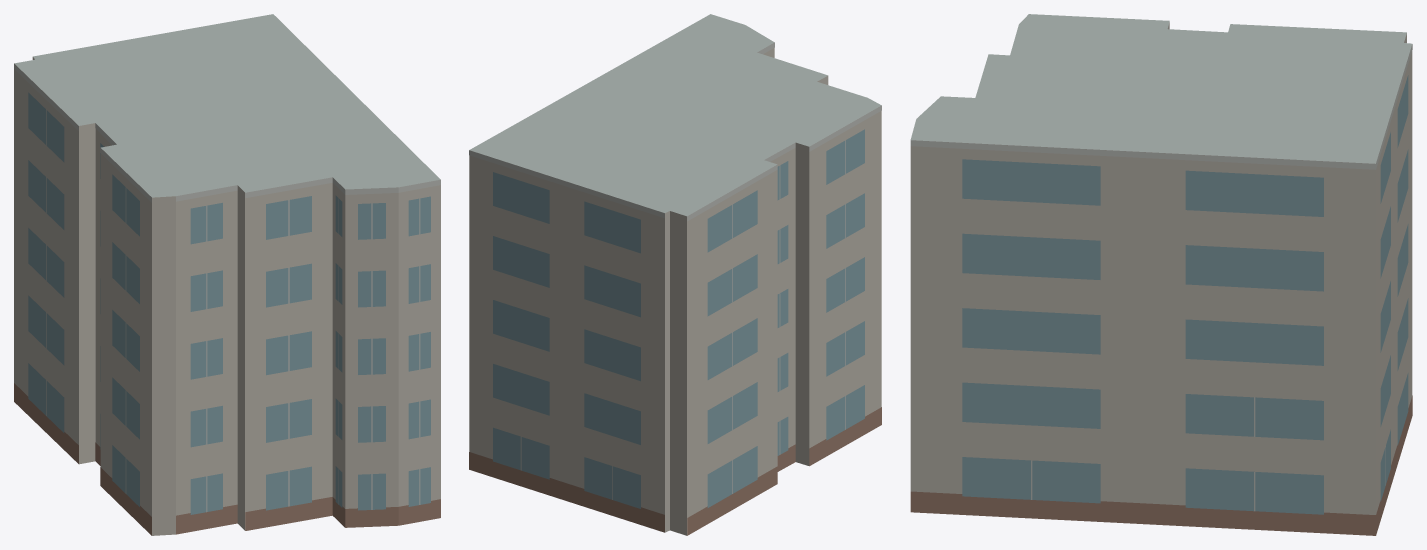
File: survey-upis-32659125.glb
3 views of the same model, side by side, from view 1: azimuth 30°, elevation 25°; view 2: azimuth 150°, elevation 25°; view 3: azimuth 270°, elevation 25° (orthographic). The views are drawn at different scales.
Visible parts, largest first — view 1: survey-upis-32659125.tmp; view 2: survey-upis-32659125.tmp; view 3: survey-upis-32659125.tmp.
Boxes of the visible parts, box(x1,y1,x2,y2) form: survey-upis-32659125.tmp: box(14, 14, 440, 535); survey-upis-32659125.tmp: box(469, 14, 881, 535); survey-upis-32659125.tmp: box(910, 14, 1412, 535).
Bounding box in the file's own units: 13.02 × 15.07 × 18.44.
